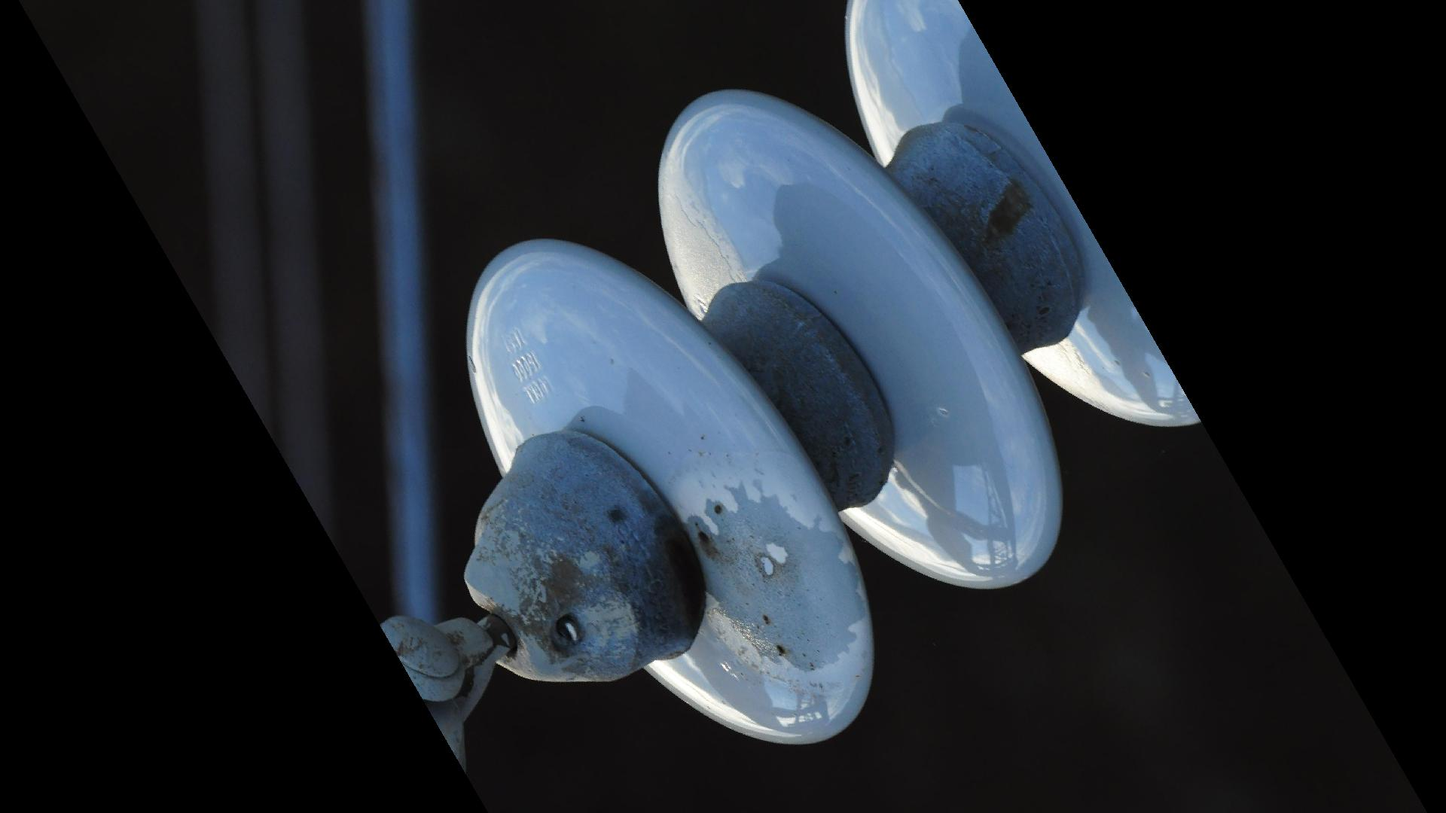insulator: (460, 1, 1207, 763)
insulator_flashover: (680, 486, 871, 671)
